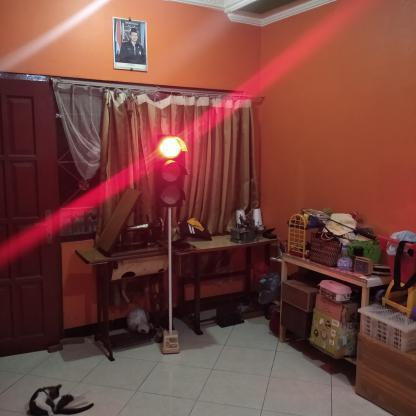red: (158, 134, 188, 208)
